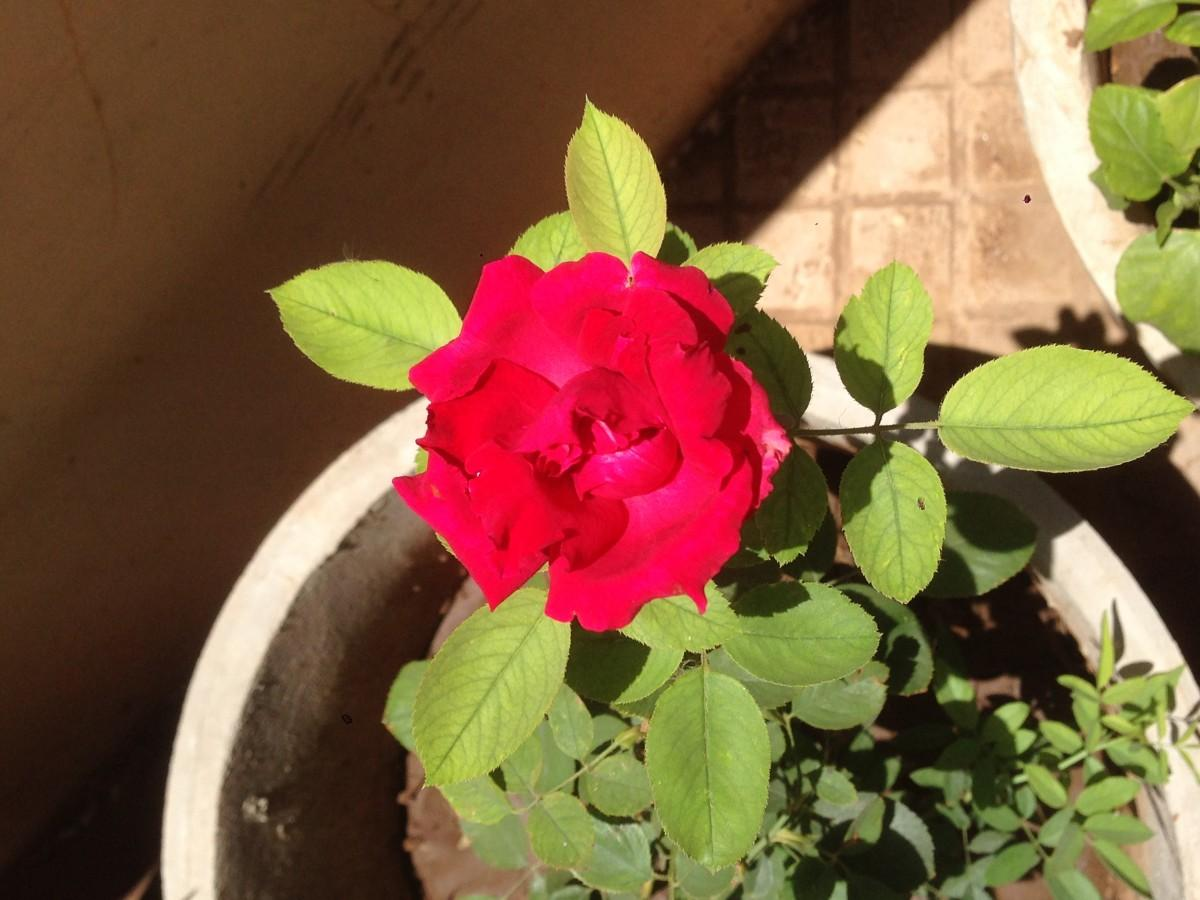Rose: (378, 224, 793, 635)
